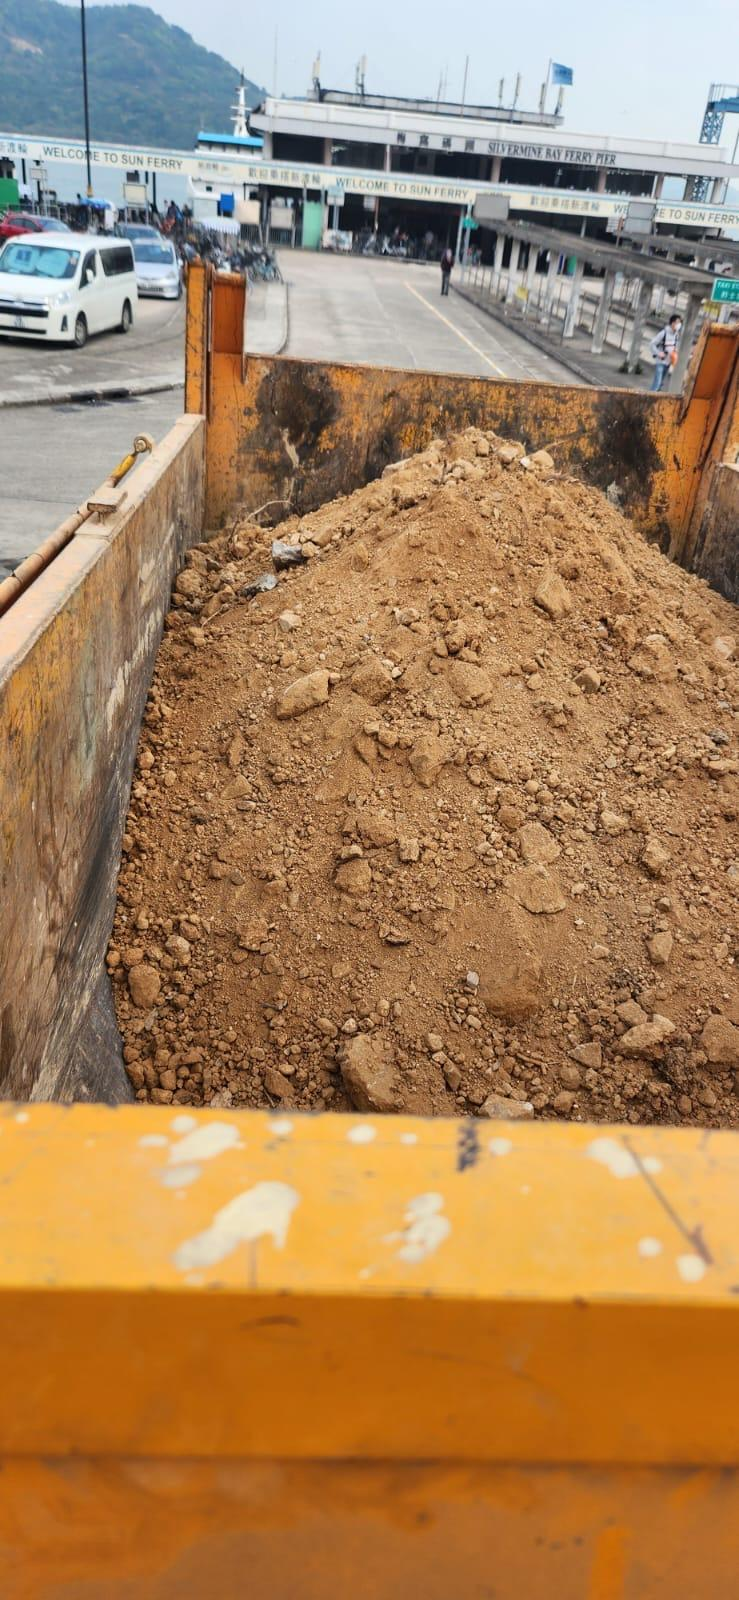dirt: (104, 423, 737, 1126)
stone: (274, 668, 330, 719)
